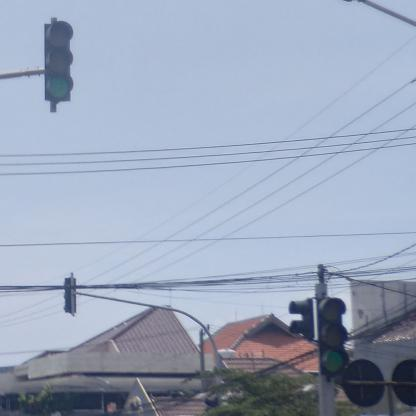green: (44, 20, 76, 103), (317, 297, 350, 376)
